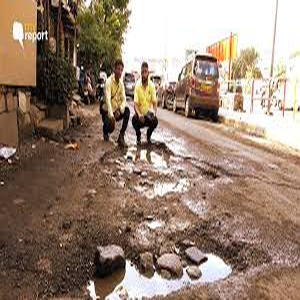pothole: (81, 231, 271, 300), (129, 140, 177, 174)
